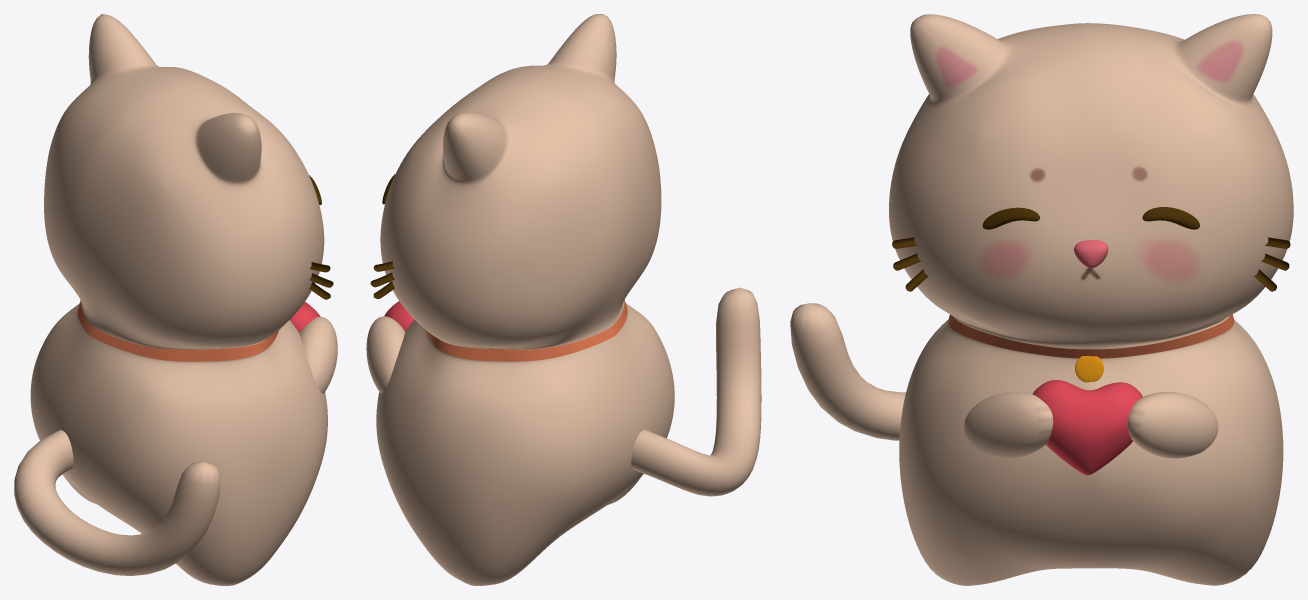
File: kitty.glb
3 views of the same model, side by side, from view 1: azimuth 30°, elevation 25°; view 2: azimuth 150°, elevation 25°; view 3: azimuth 270°, elevation 25° (orthographic). The views are drawn at different scales.
Parts seen in each view (by area): view 1: Object_2, Object_5, Object_4; view 2: Object_2, Object_5, Object_4; view 3: Object_2, Object_5, Object_4, Object_3.
Part boxes in pixels (<box>): Object_2: <box>30,14,327,585</box>; Object_5: <box>14,300,337,575</box>; Object_4: <box>309,175,333,299</box>; Object_2: <box>376,14,674,585</box>; Object_5: <box>366,287,761,496</box>; Object_4: <box>370,174,395,298</box>; Object_2: <box>889,14,1293,585</box>; Object_5: <box>790,240,1234,475</box>; Object_4: <box>892,207,1290,291</box>; Object_3: <box>1075,356,1103,382</box>.
Size of the model in its own units: 2.33 by 3.34 by 2.71.
4 materials, 2 textured.
